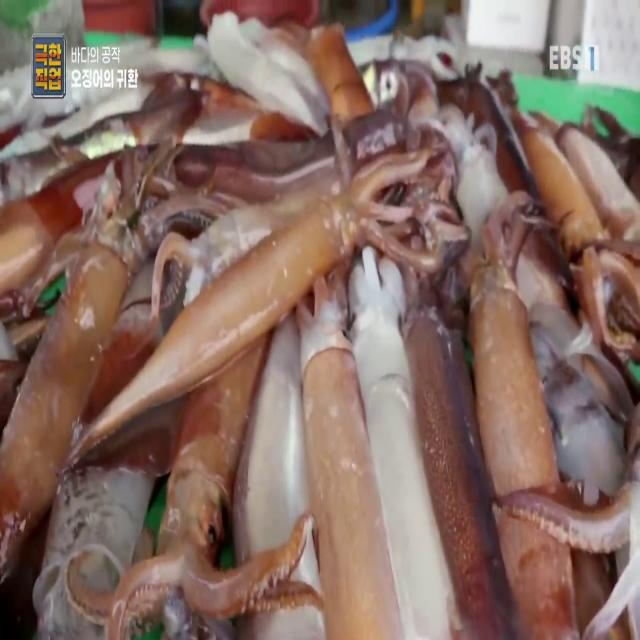squid: (68, 142, 444, 480), (0, 134, 230, 578), (68, 326, 322, 640), (459, 196, 584, 640), (398, 256, 516, 640), (349, 245, 461, 640), (486, 68, 640, 344), (293, 267, 402, 640)
